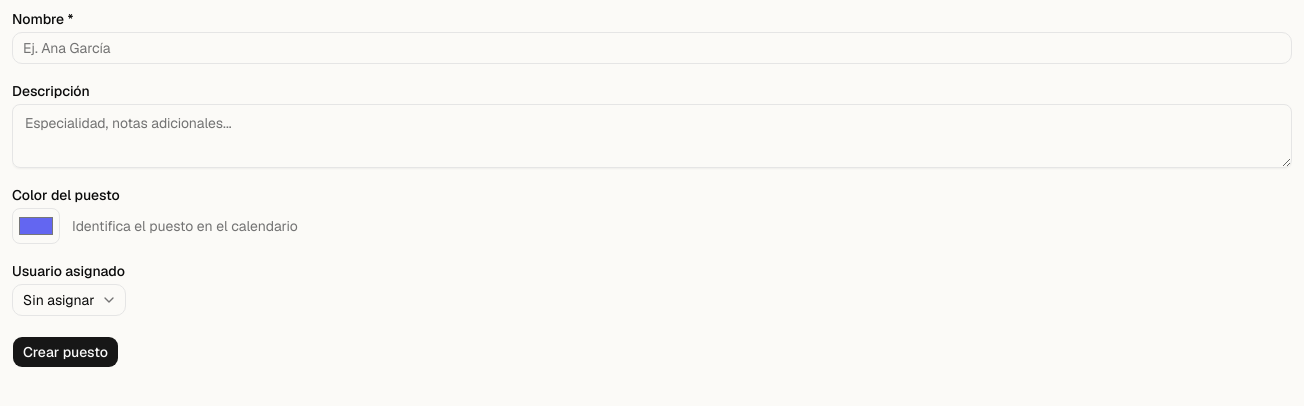
it: CreateChairForm — validación › muestra error cuando el nombre es demasiado corto
Type "A" into the field labelled "Nombre *" at coordinates (652, 48), box [12,32,1292,64]
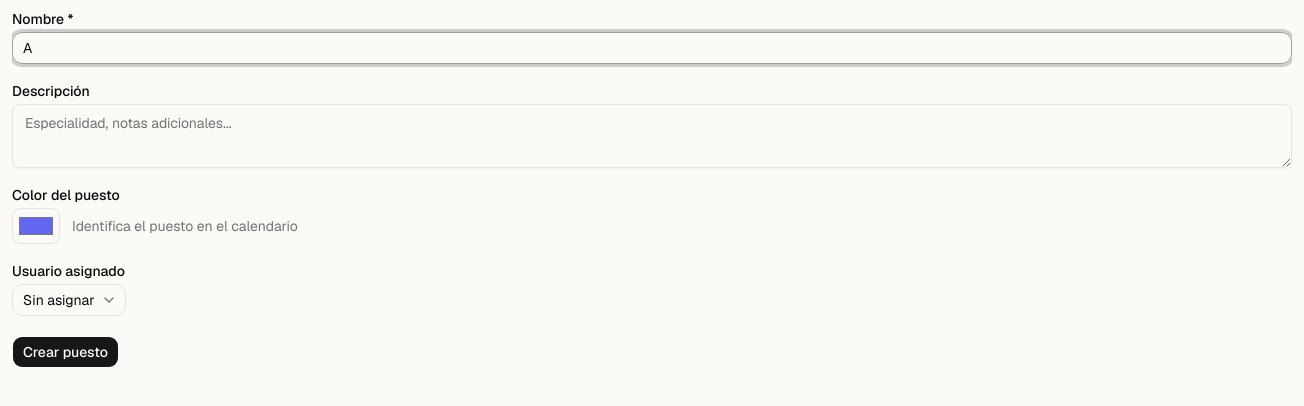
Click the button "Crear puesto" at coordinates (65, 352), box [12,336,119,368]
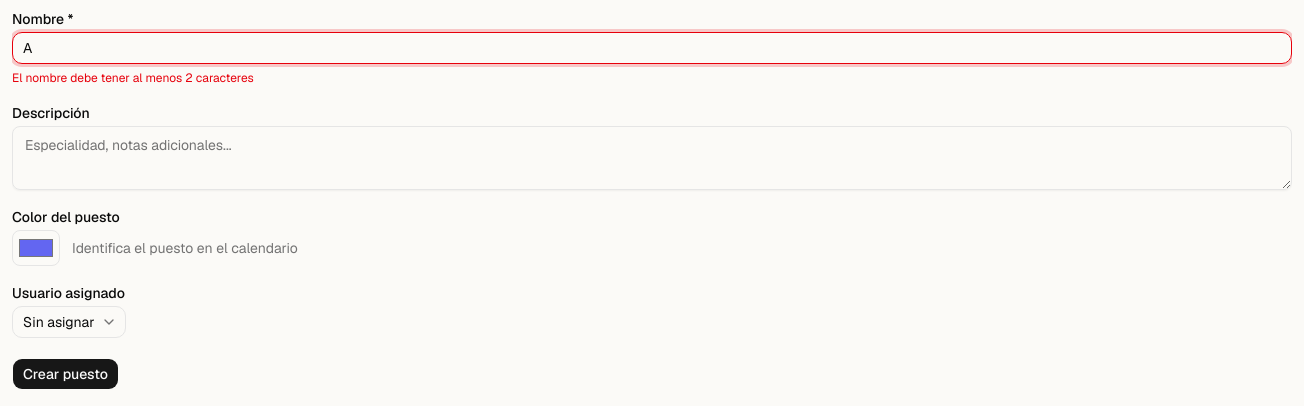
Result: the text "El nombre debe tener al menos 2 caracteres" is shown at [12,70,254,86]
